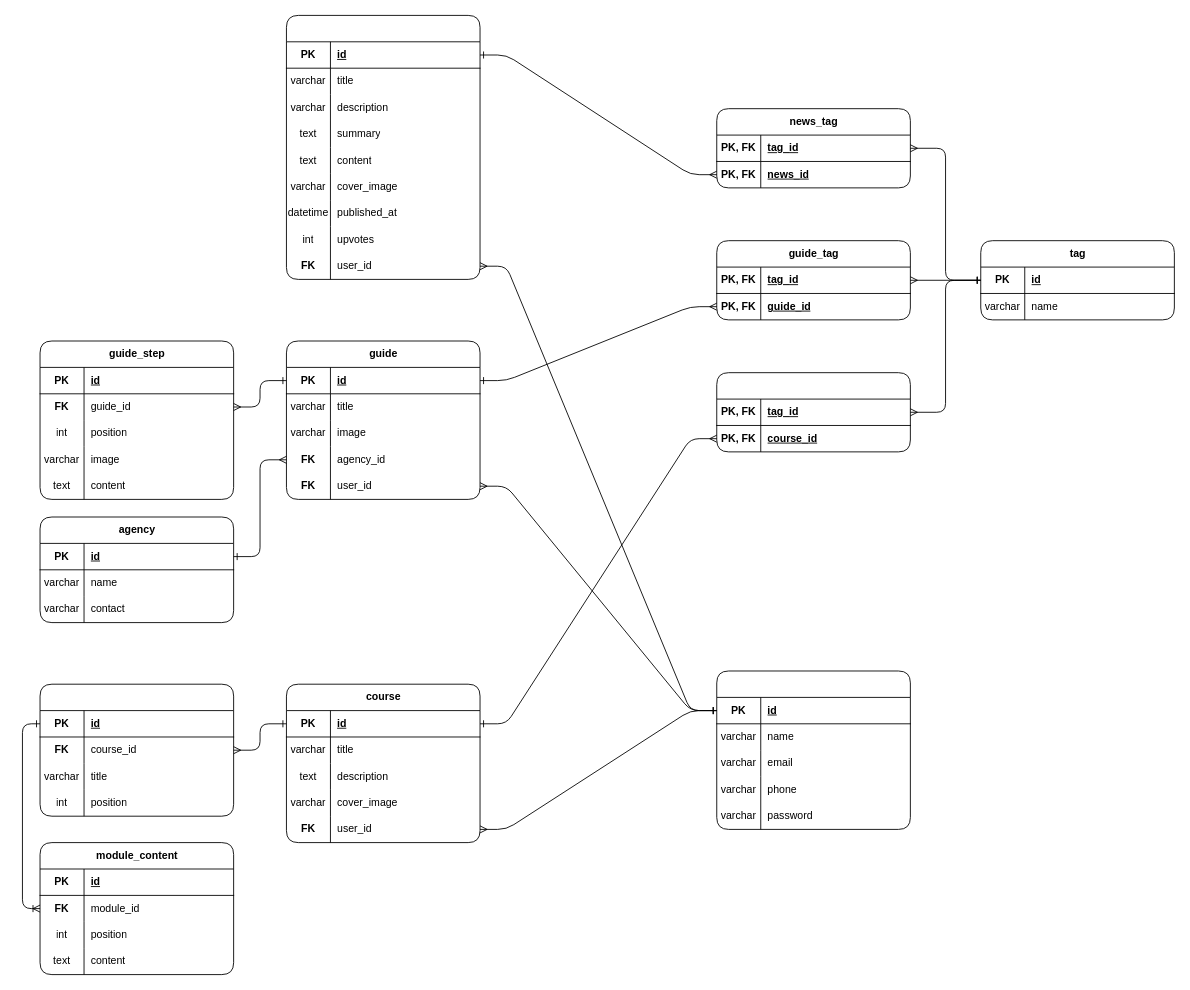
Image size: 1190x990. Some labels were removed from this diagram. The shapes that lost their labels are listed below. From the top down, each one's box as (x1, y1, x2, y2) in pixels, then its label:
(286, 15, 480, 279): news
(716, 372, 910, 452): course_tag
(39, 683, 234, 816): course_module
(716, 670, 910, 829): User
